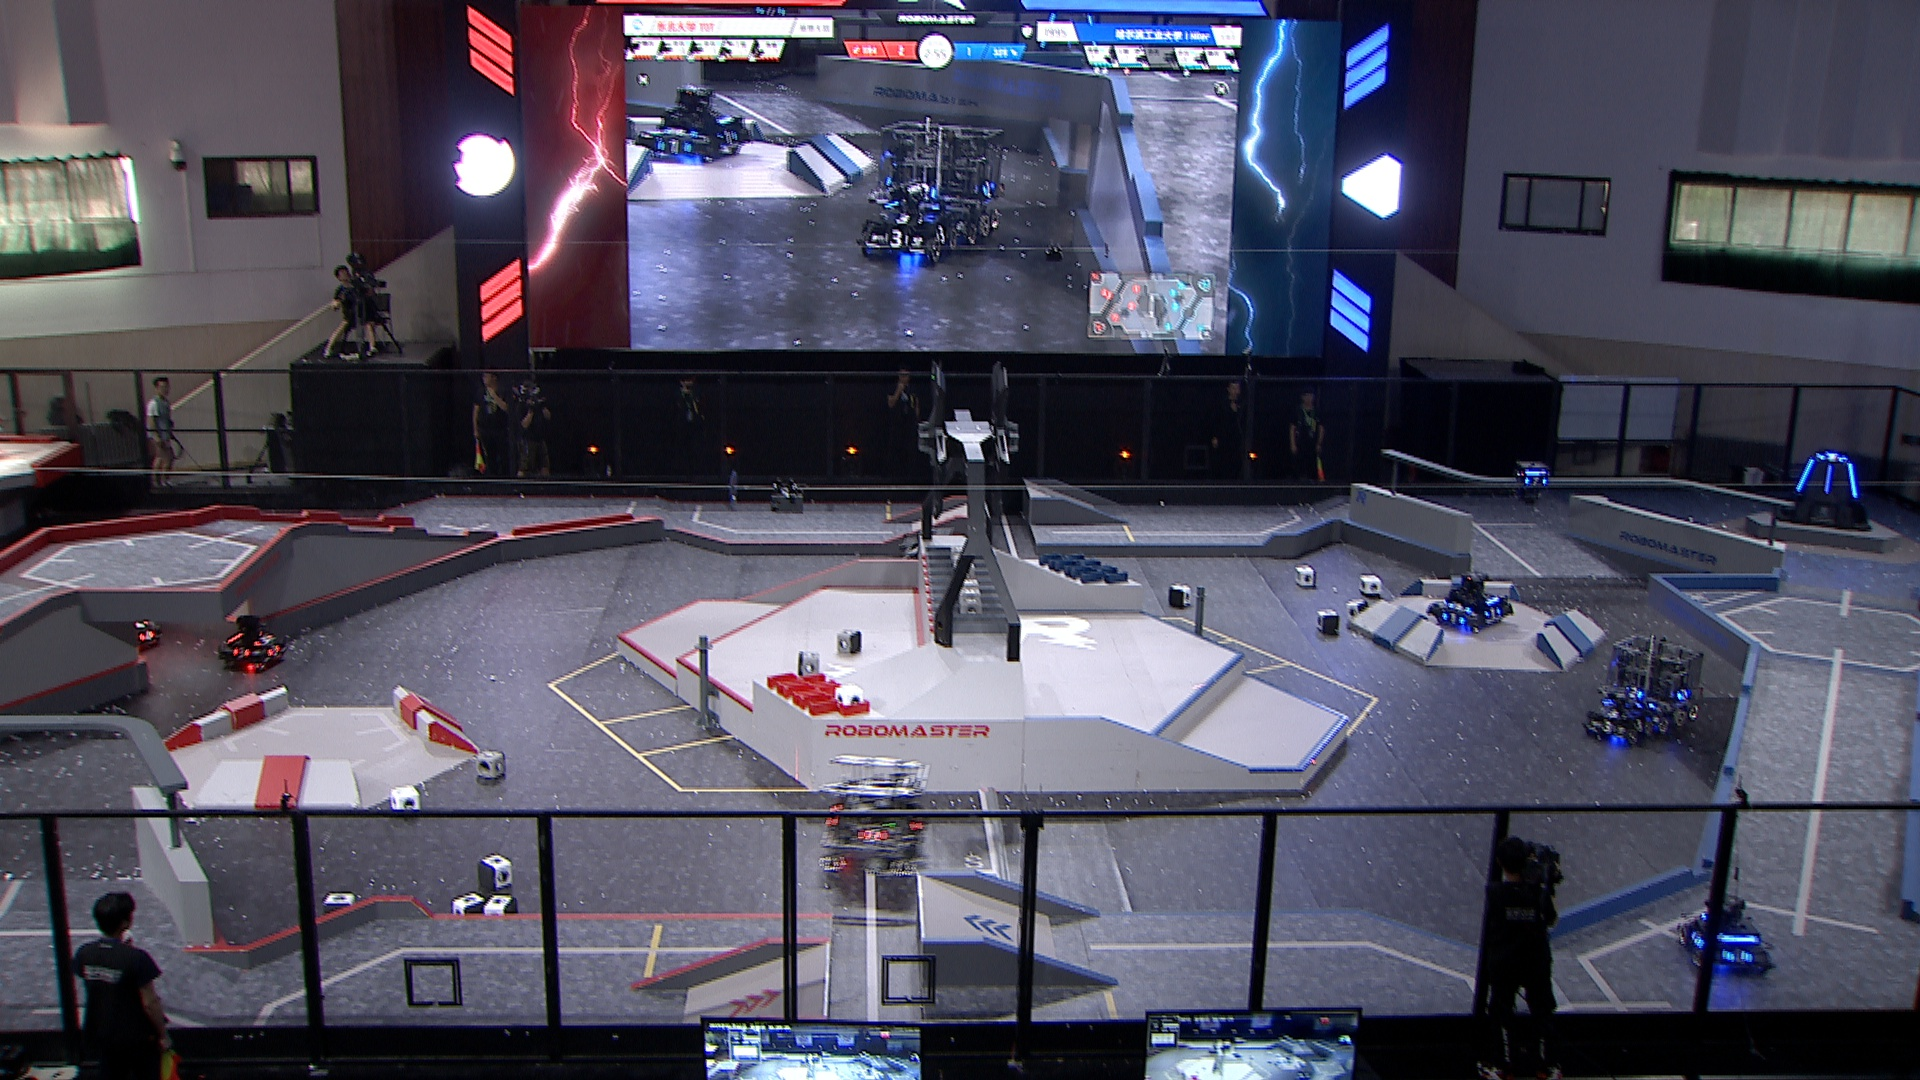armor: (1795, 458, 1817, 495), (855, 825, 887, 845), (1724, 949, 1756, 965), (1846, 462, 1859, 500), (1685, 928, 1708, 949), (1439, 611, 1466, 626), (1523, 476, 1548, 489), (1820, 452, 1845, 465), (1822, 465, 1833, 495), (229, 646, 251, 661), (1444, 603, 1474, 612), (1604, 707, 1622, 721), (136, 628, 154, 642), (1673, 687, 1691, 702), (1482, 608, 1501, 621), (1600, 721, 1615, 736), (133, 618, 150, 632), (255, 633, 272, 646), (1626, 687, 1643, 700), (1633, 717, 1646, 733), (266, 645, 280, 659)
base: (1774, 451, 1875, 533)
car: (818, 756, 935, 878), (1600, 633, 1704, 733), (1676, 893, 1779, 978), (1427, 568, 1514, 636), (1581, 688, 1660, 745), (216, 615, 290, 674), (87, 599, 164, 654)
ignore: (864, 117, 1005, 247), (855, 181, 961, 262), (636, 86, 746, 164)
watcher: (1514, 462, 1552, 506)
